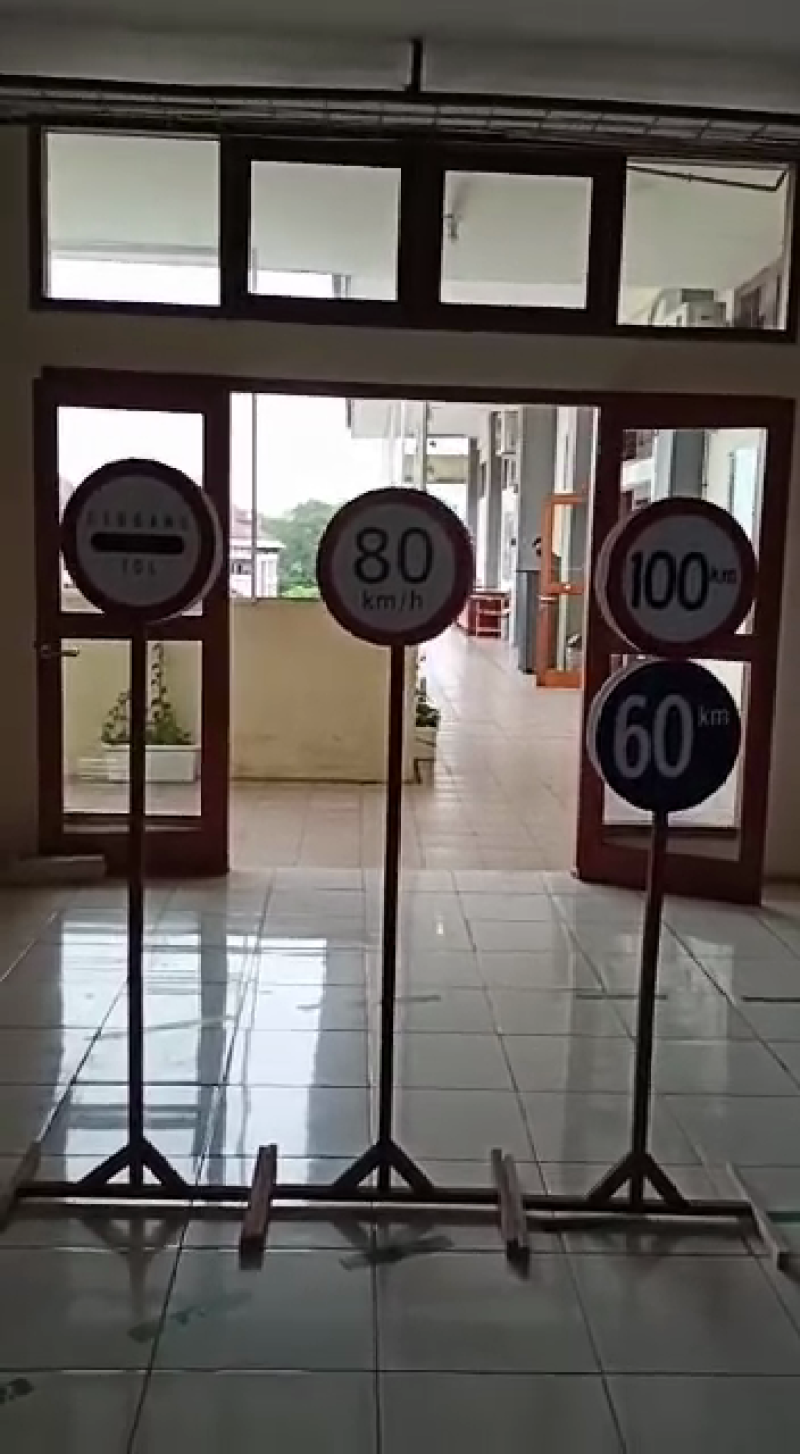batas maksimal 100kmperjam minimal 60kmperjam: (594, 490, 761, 824)
batas maksimal 80kmperjam: (318, 477, 489, 642)
gerbang tol: (46, 455, 226, 633)
